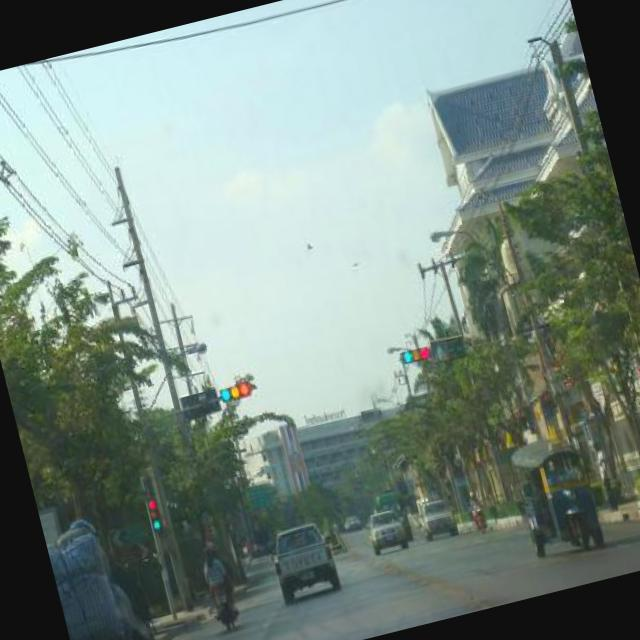Person: (197, 544, 236, 616), (586, 438, 618, 512), (60, 512, 96, 542), (540, 456, 560, 484), (464, 491, 482, 511), (288, 528, 304, 548)
